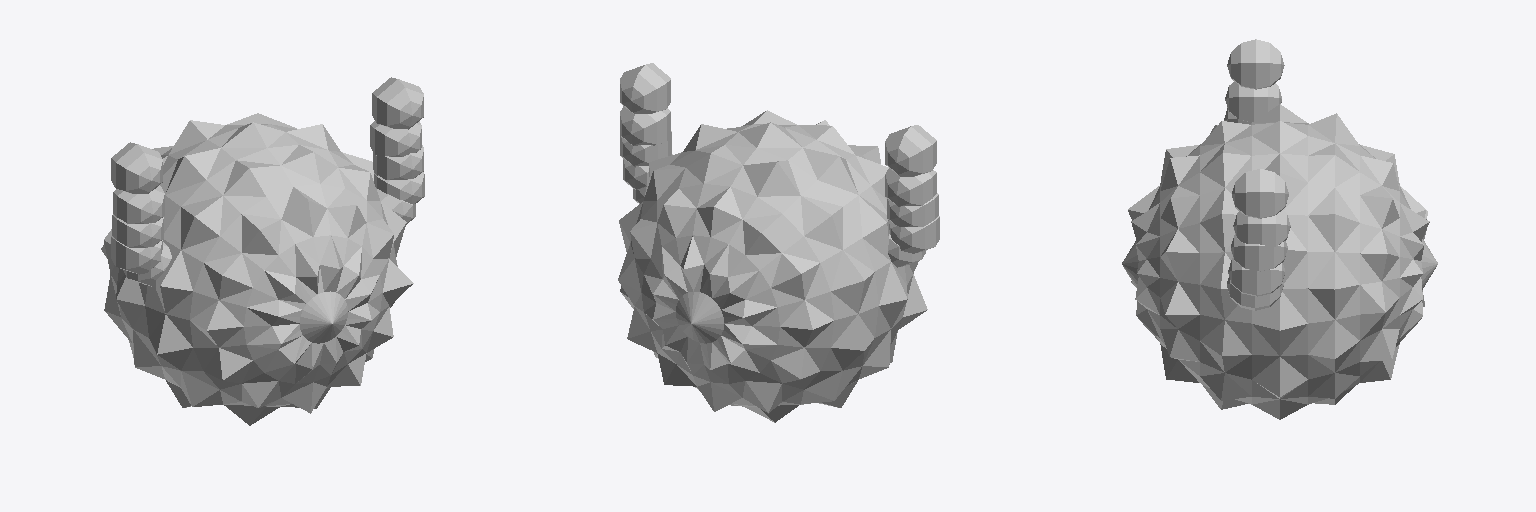
Rendered from White Blood Cell.obj.
3 renders of one model, left to right at view 1: azimuth 30°, elevation 25°; view 2: azimuth 150°, elevation 25°; view 3: azimuth 270°, elevation 25°, orthographic.
Parts seen in each view (by area): view 1: Mesh; view 2: Mesh; view 3: Mesh.
Part boxes in pixels (x1,y1,x2,y2): Mesh: (101,77,424,425); Mesh: (618,63,939,422); Mesh: (1122,39,1437,419).
Bounding box in the file's own units: 2.47 × 2.34 × 2.2.